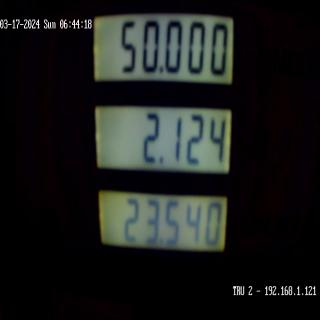screen: (89, 3, 238, 266)
